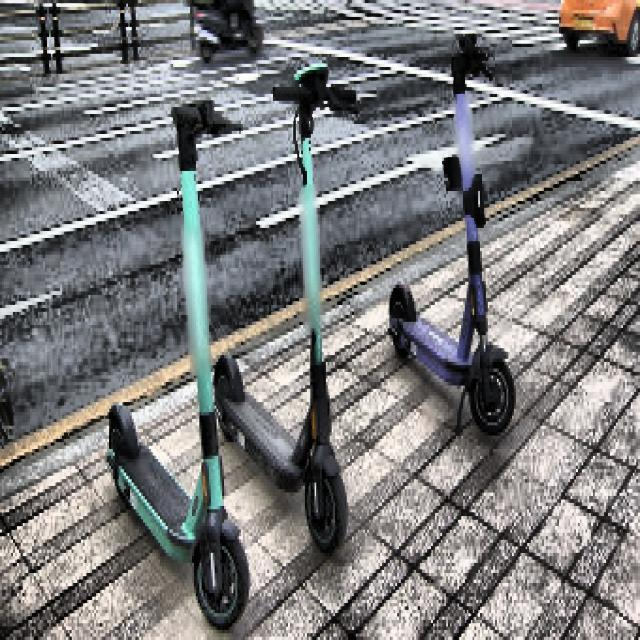bike: (387, 34, 516, 436)
car: (557, 0, 640, 59)
